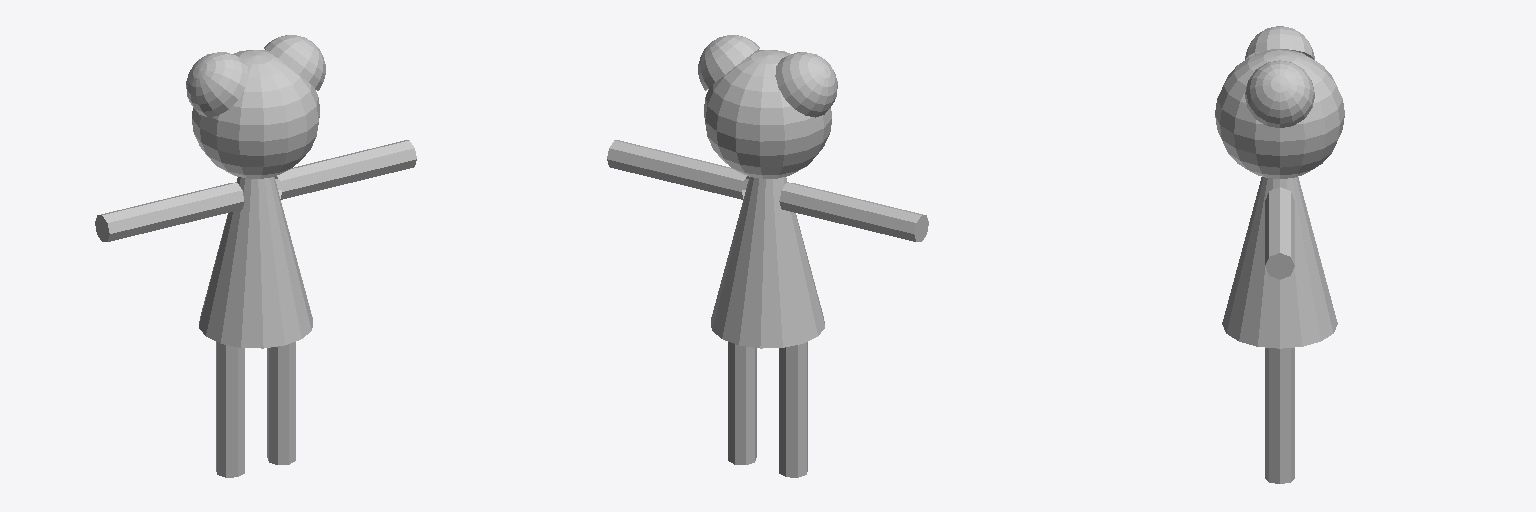
File: kuma.obj
3 views of the same model, side by side, from view 1: azimuth 30°, elevation 25°; view 2: azimuth 150°, elevation 25°; view 3: azimuth 270°, elevation 25° (orthographic).
Visible parts, largest first — view 1: body; view 2: body; view 3: body.
Boxes of the visible parts, box(x1,y1,x2,y2) form: body: box(95, 35, 416, 477); body: box(607, 35, 928, 477); body: box(1215, 26, 1344, 483).
Bounding box in the file's own units: 2.18 × 2.84 × 0.8.